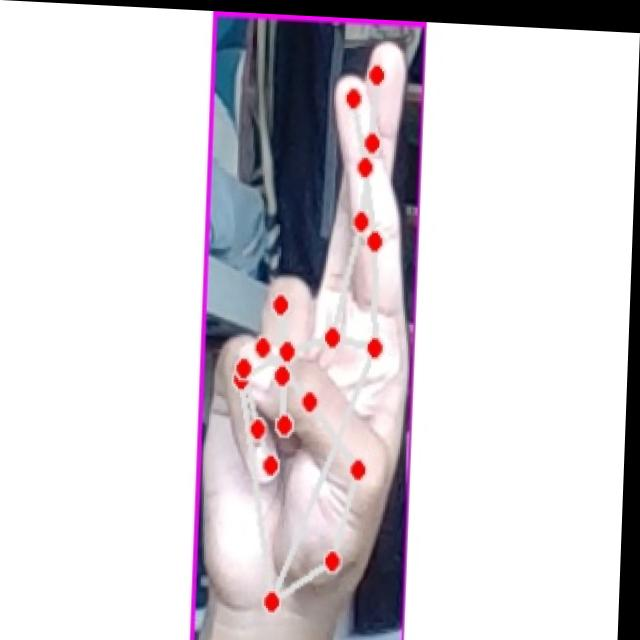R: (205, 28, 411, 627)
